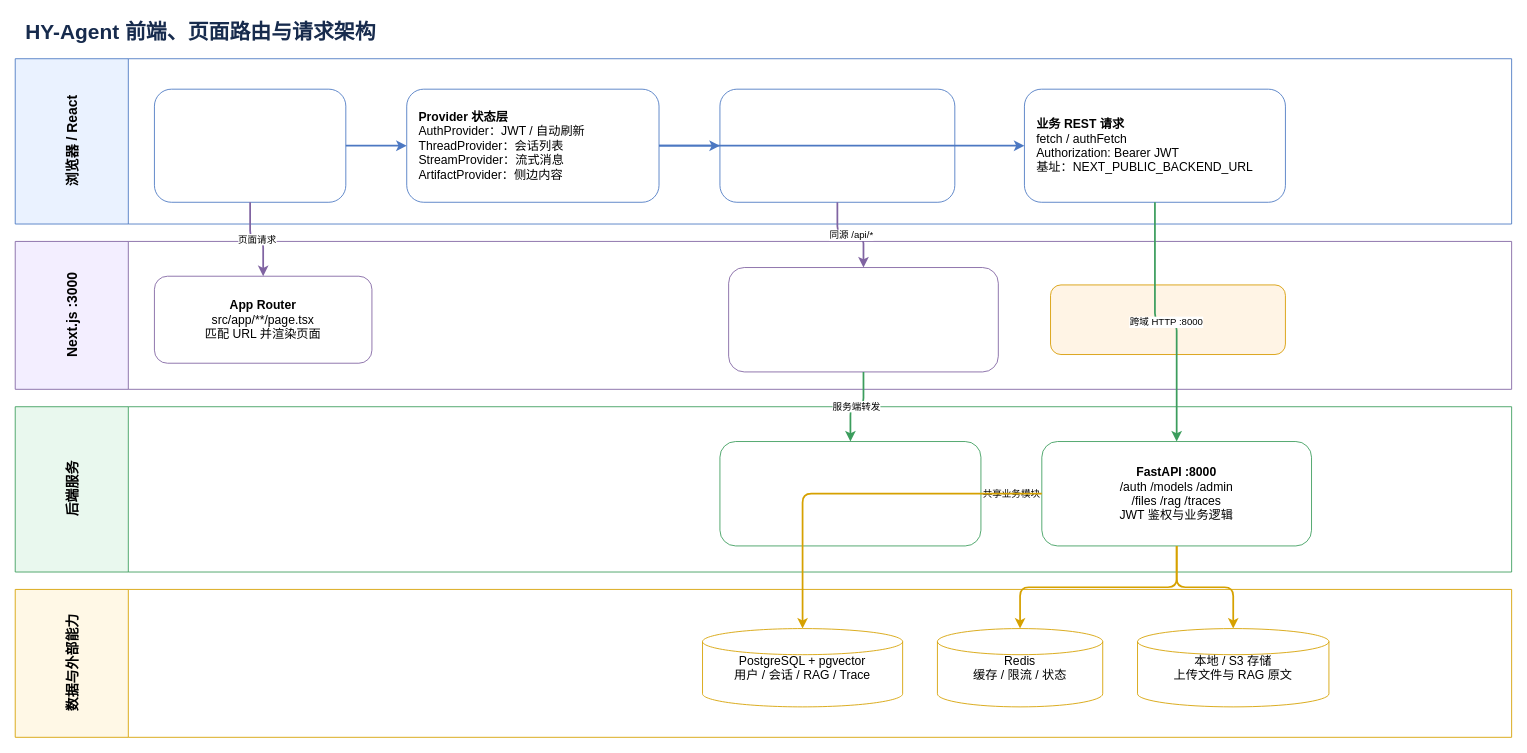
This 1527x753 diagram has some shape labels left out. Here are the shapes that lost their labels. From the top down, the centre of each, then its label:
At point (250, 145): "页面路由 / 聊天 /files 文件 /traces 追踪 /admin 管理".
At point (837, 145): "LangGraph SDK useStream() Client.threads.search() 请求基址：NEXT_PUBLIC_API_URL".
At point (863, 319): "/api/[..._path] Edge API 透明代理 读取 LANGGRAPH_API_URL 服务端注入 LANGSMITH_API_KEY".
At point (1167, 319): "业务 REST 当前不经过 Next.js 浏览器直接访问 FastAPI".
At point (850, 493): "LangGraph Agent :2024 /info /threads、/runs、流式事件 Graph ID：hy-chat".
